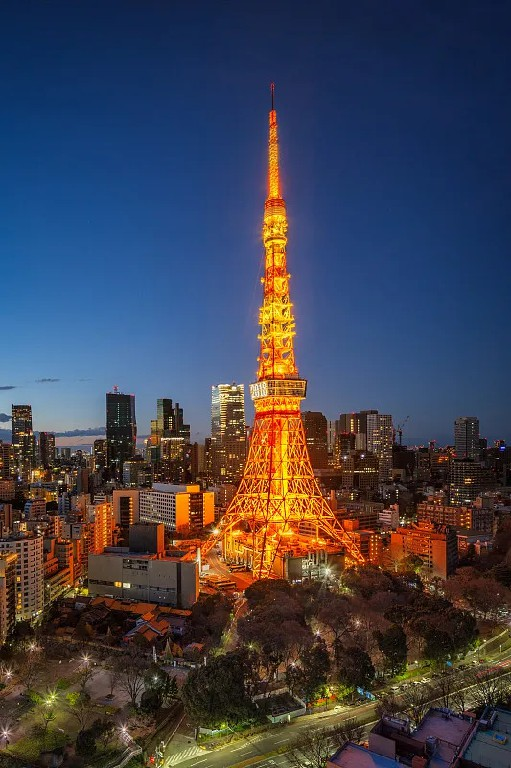Tokyo: (188, 77, 364, 574)
